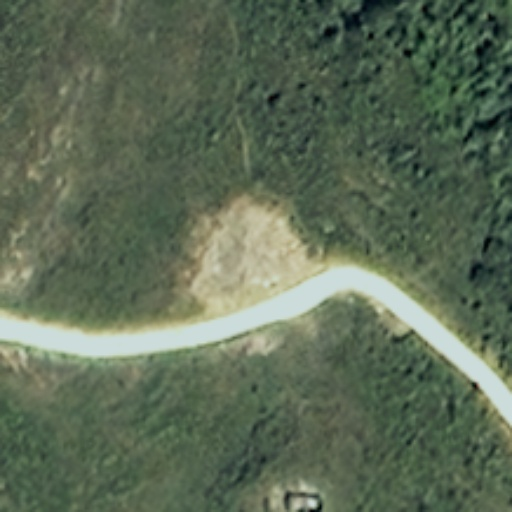landslide: (192, 195, 323, 316)
